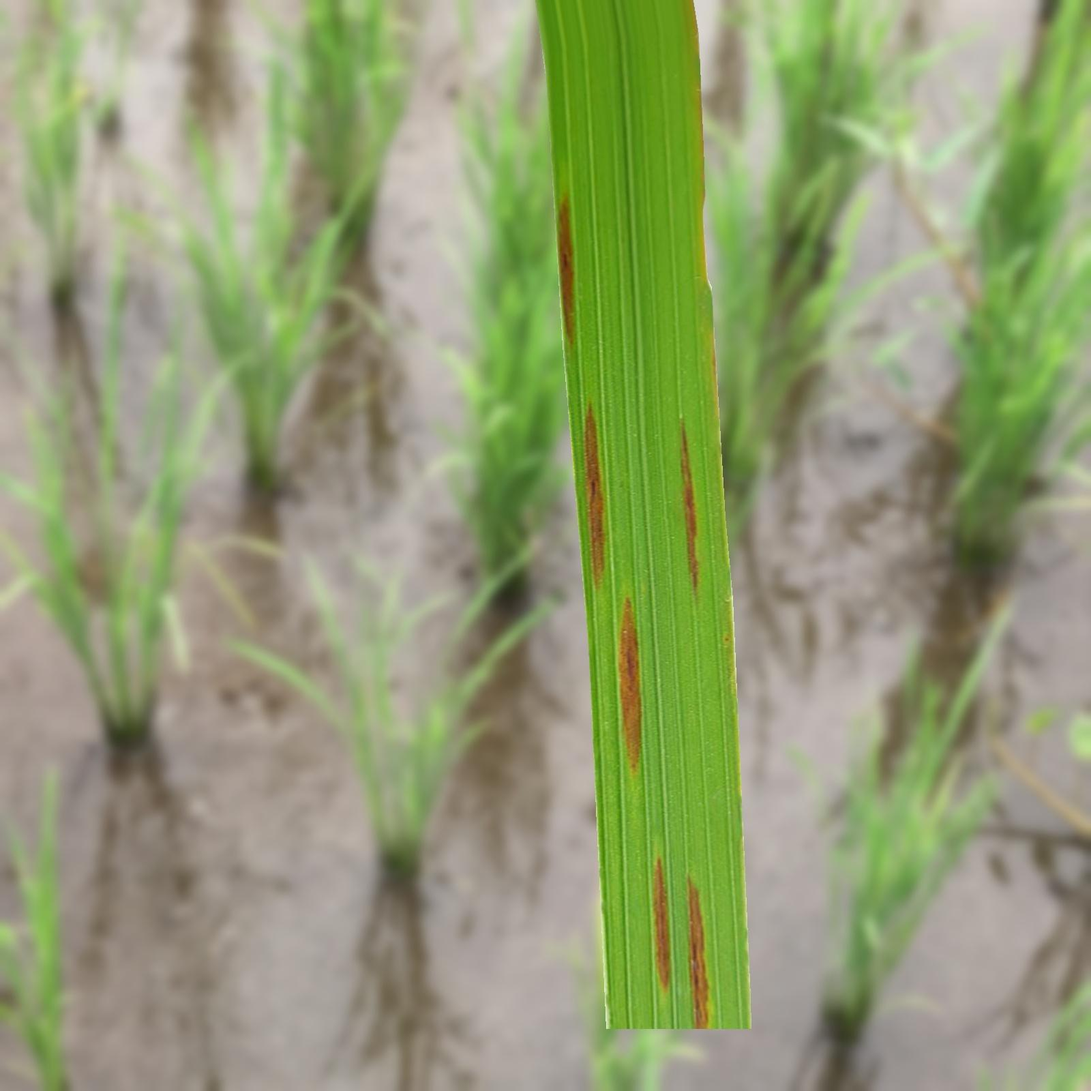LEAF: (535, 0, 751, 1029)
NBS: (618, 598, 642, 772), (584, 404, 604, 584), (687, 878, 709, 1026), (681, 424, 699, 591), (558, 195, 574, 344), (653, 858, 670, 991)
